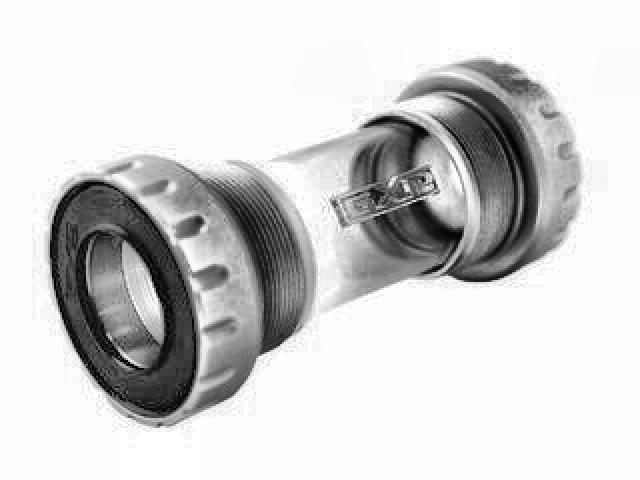bottom_bracket: (42, 49, 586, 430)
